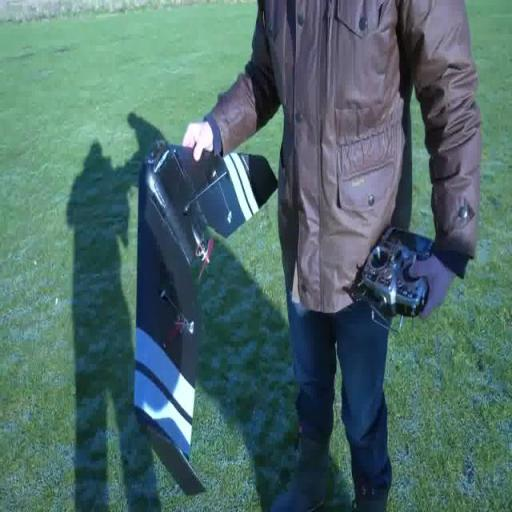uav: (130, 133, 282, 491)
